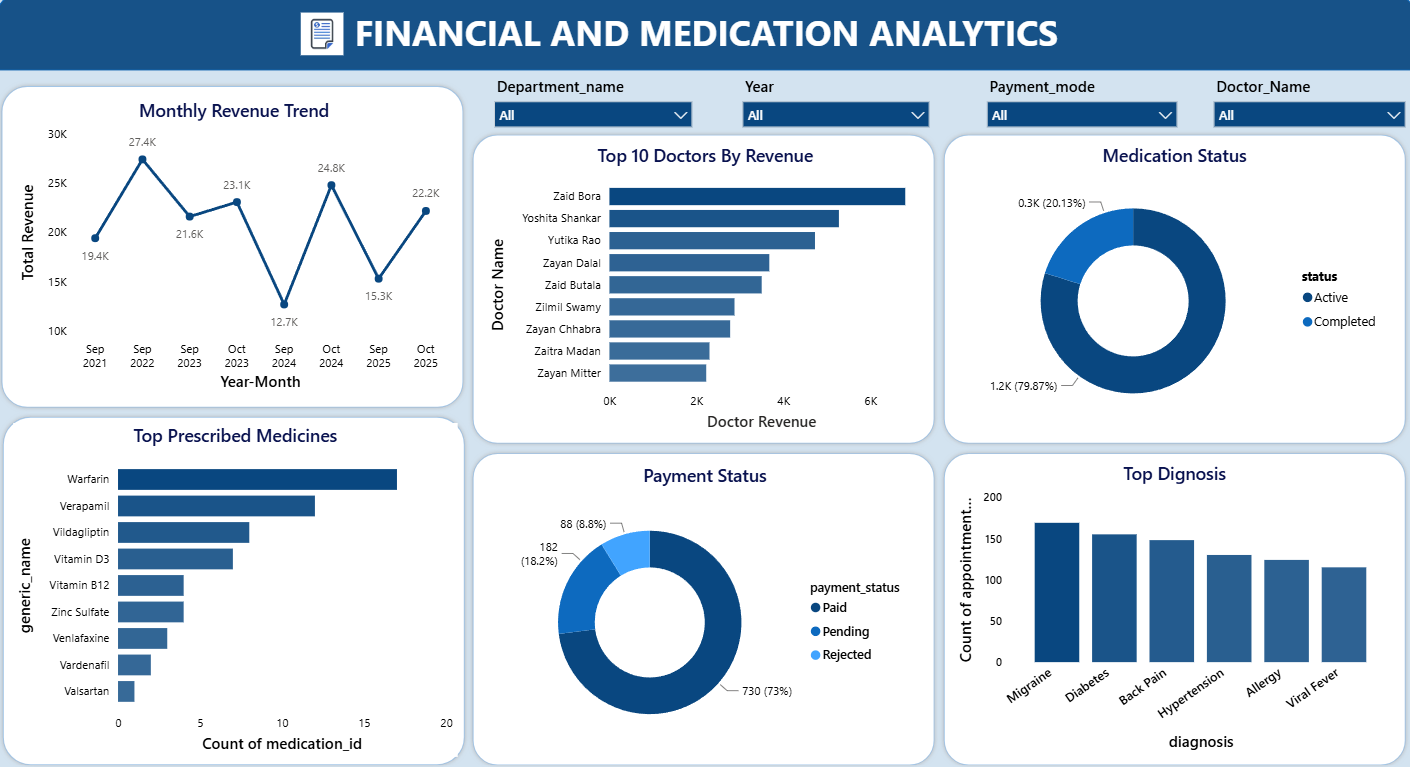

Layout of this report page (visuals, bound fields, positions):
{"tool":"powerbi","page":{"name":"Financial_&_Medication_Analytics","canvas":[1500,820],"ordinal":2},"visuals":[{"type":"shape","box":[0,91.7,498.3,350],"z":0},{"type":"shape","box":[996.7,480,498.3,340],"z":1000},{"type":"shape","box":[498.3,480,498.3,340],"z":2000},{"type":"shape","box":[996.7,143.3,498.3,336.7],"z":3000},{"type":"shape","box":[498.3,143.3,498.3,336.7],"z":4000},{"type":"shape","box":[1.7,441.7,498.3,378.3],"z":5000},{"type":"lineChart","title":"Monthly Revenue Trend","fields":{"Category":["Calendar.Year-Month"],"Y":["Measures (2).Total Revenue"]},"box":[20,108.3,461.7,315],"z":6000},{"type":"donutChart","title":"Payment Status","fields":{"Category":["healthcare_analytics_db bills.payment_status"],"Y":["CountNonNull(healthcare_analytics_db bills.bill_id)"]},"box":[515,495,466.7,311.7],"z":7000},{"type":"clusteredBarChart","title":"Top 10 Doctors By Revenue","fields":{"Category":["healthcare_analytics_db doctors.Doctor Name"],"Y":["Measures (2).Doctor Revenue"]},"box":[516.7,156.7,465,308.3],"z":8000},{"type":"clusteredBarChart","title":"Top Prescribed Medicines","fields":{"Category":["healthcare_analytics_db medications.generic_name"],"Y":["CountNonNull(healthcare_analytics_db medications.medication_id)"]},"box":[16.7,453.3,470,353.3],"z":9000},{"type":"donutChart","title":"Medication Status","fields":{"Category":["healthcare_analytics_db medications.status"],"Y":["CountNonNull(healthcare_analytics_db medications.medication_id)"]},"box":[1018.3,156.7,455,308.3],"z":10000},{"type":"clusteredColumnChart","title":"Top Dignosis","fields":{"Category":["healthcare_analytics_db appointments.diagnosis"],"Y":["CountNonNull(healthcare_analytics_db appointments.appointment_id)"]},"box":[1013.3,493.3,466.7,311.7],"z":11000},{"type":"slicer","fields":{"Values":["healthcare_analytics_db bills.payment_mode"]},"box":[1036.7,80,221.7,63.3],"z":12000},{"type":"slicer","fields":{"Values":["Calendar.Year"]},"box":[778.3,80,218.3,63.3],"z":13000},{"type":"slicer","fields":{"Values":["healthcare_analytics_db departments.department_name"]},"box":[515,80,230,63.3],"z":14000},{"type":"slicer","fields":{"Values":["healthcare_analytics_db doctors.first_name"]},"box":[1276.7,80,223.3,80],"z":15000},{"type":"shape","box":[0,0,1500,80],"z":16000},{"type":"textbox","box":[321.7,8.3,858.3,65],"z":17000},{"type":"image","box":[321.7,18.3,45,45],"z":18000}]}

Visuals, with their boxes in screenshot pixels (x1, y1, x2, y2), scaled from the page's 1500x820 canvas onto the 1410x767 screenshot:
shape: {"x1": 0, "y1": 86, "x2": 468, "y2": 413}
shape: {"x1": 937, "y1": 449, "x2": 1405, "y2": 766}
shape: {"x1": 468, "y1": 449, "x2": 937, "y2": 766}
shape: {"x1": 937, "y1": 134, "x2": 1405, "y2": 449}
shape: {"x1": 468, "y1": 134, "x2": 937, "y2": 449}
shape: {"x1": 2, "y1": 413, "x2": 470, "y2": 766}
"Monthly Revenue Trend" lineChart: {"x1": 19, "y1": 101, "x2": 453, "y2": 396}
"Payment Status" donutChart: {"x1": 484, "y1": 463, "x2": 923, "y2": 755}
"Top 10 Doctors By Revenue" clusteredBarChart: {"x1": 486, "y1": 147, "x2": 923, "y2": 435}
"Top Prescribed Medicines" clusteredBarChart: {"x1": 16, "y1": 424, "x2": 457, "y2": 754}
"Medication Status" donutChart: {"x1": 957, "y1": 147, "x2": 1385, "y2": 435}
"Top Dignosis" clusteredColumnChart: {"x1": 953, "y1": 461, "x2": 1391, "y2": 753}
slicer - healthcare_analytics_db bills.payment_mode: {"x1": 974, "y1": 75, "x2": 1183, "y2": 134}
slicer - Calendar.Year: {"x1": 732, "y1": 75, "x2": 937, "y2": 134}
slicer - healthcare_analytics_db departments.department_name: {"x1": 484, "y1": 75, "x2": 700, "y2": 134}
slicer - healthcare_analytics_db doctors.first_name: {"x1": 1200, "y1": 75, "x2": 1409, "y2": 150}
shape: {"x1": 0, "y1": 0, "x2": 1409, "y2": 75}
textbox: {"x1": 302, "y1": 8, "x2": 1109, "y2": 69}
image: {"x1": 302, "y1": 17, "x2": 345, "y2": 59}
